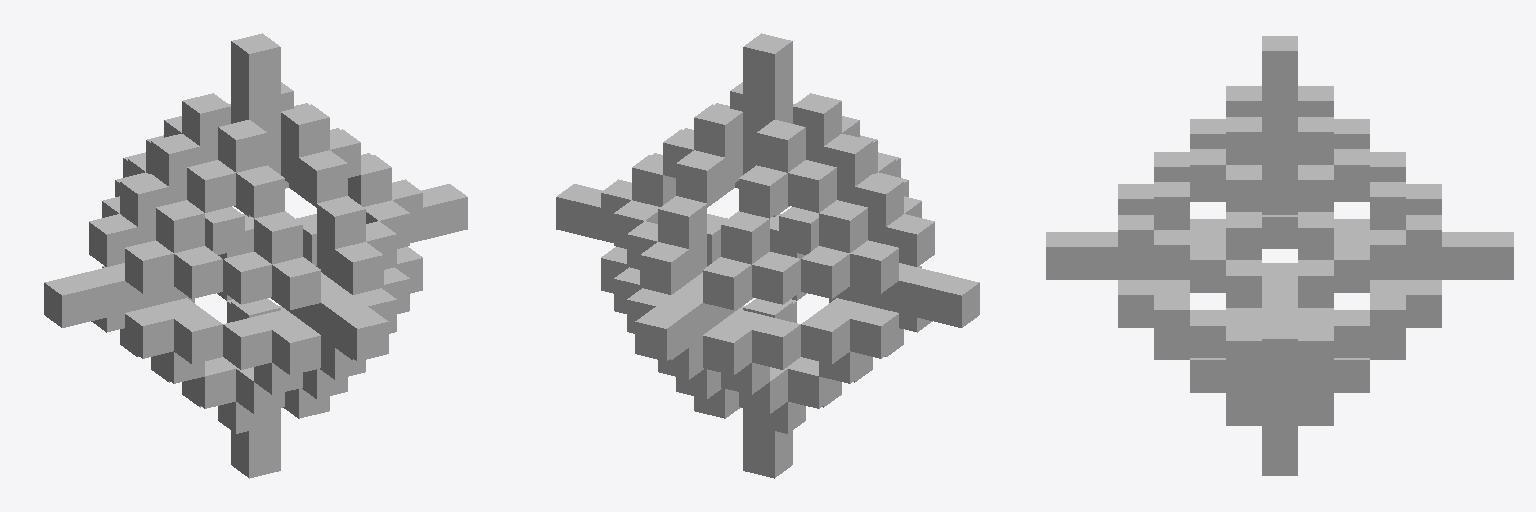
The model's file is ProjectileDeath3.obj.
3 views of the same model, side by side, from view 1: azimuth 30°, elevation 25°; view 2: azimuth 150°, elevation 25°; view 3: azimuth 270°, elevation 25° (orthographic).
Size of the model in its own units: 13 by 13 by 13.